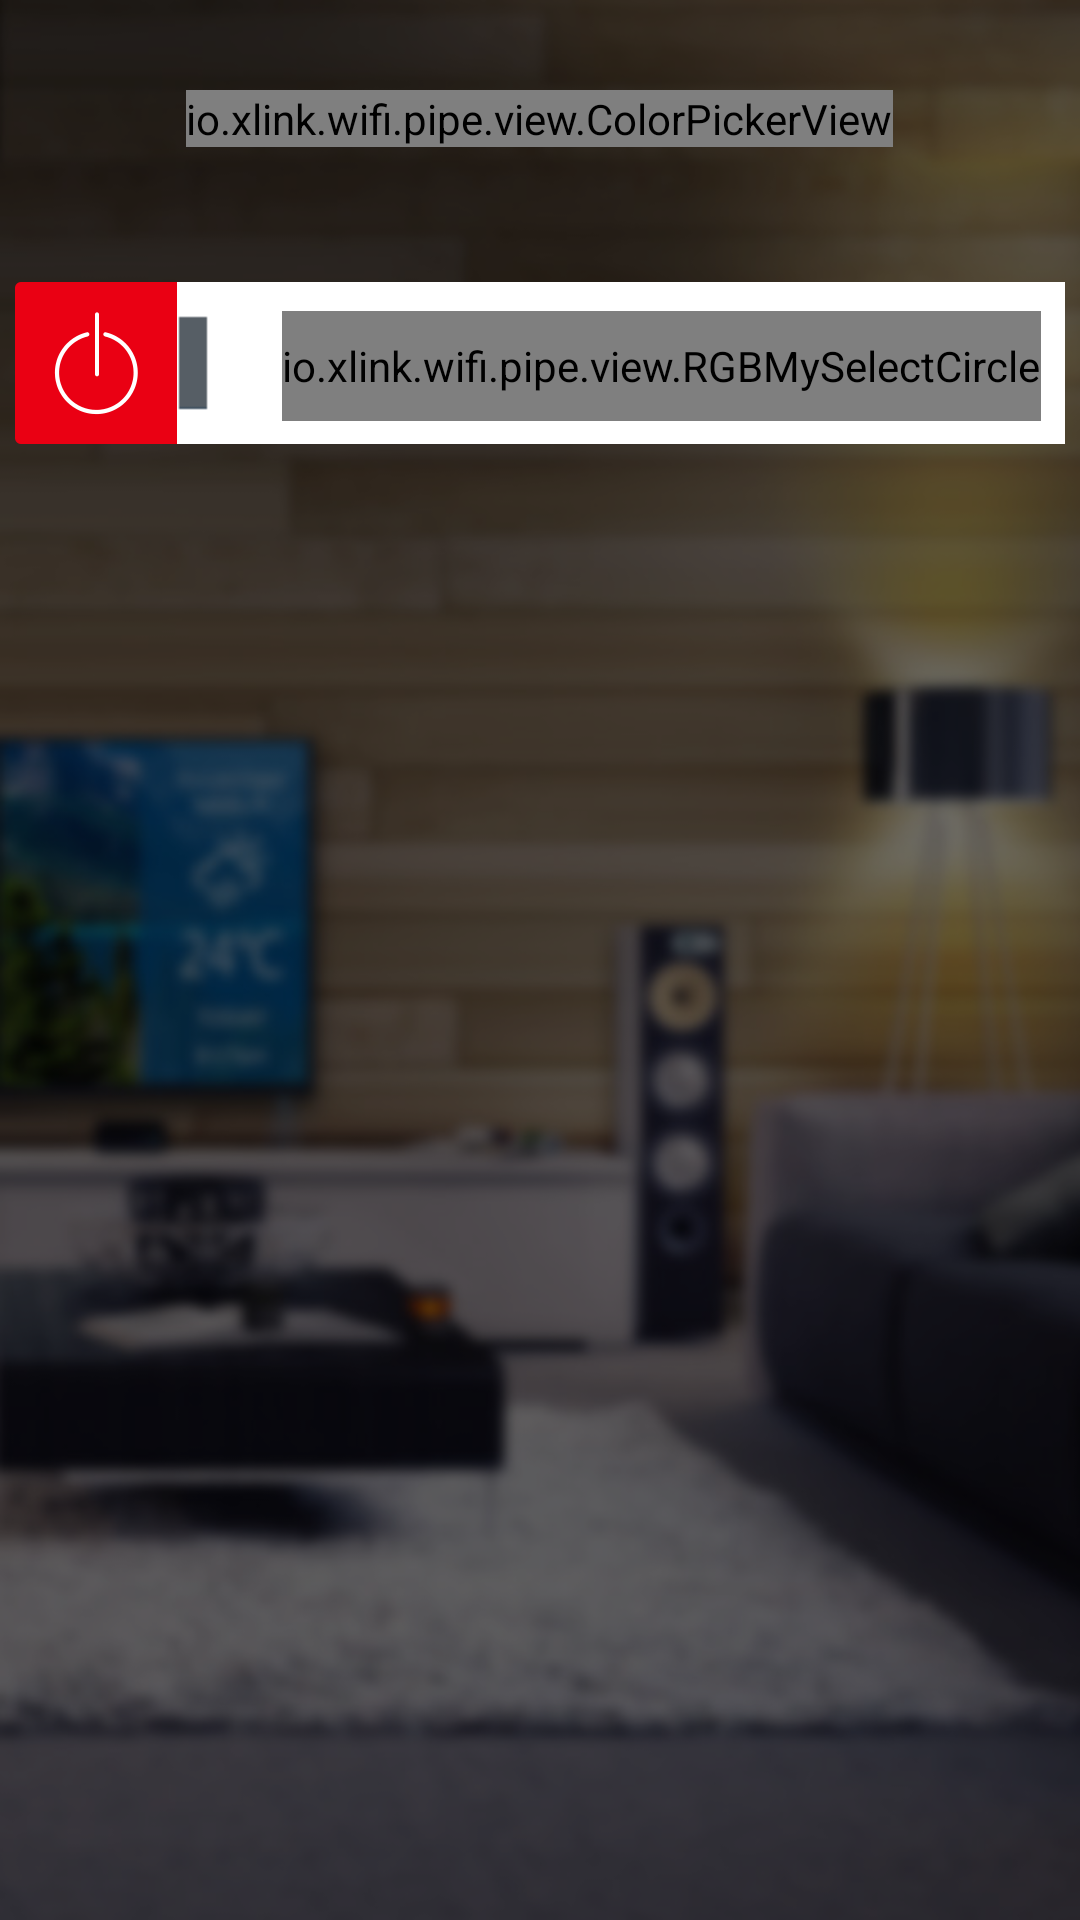

Point at icon controls on the screen. Image size 1080 x 1920, points as (x=x, y=y).
control offon: (x=96, y=363)
